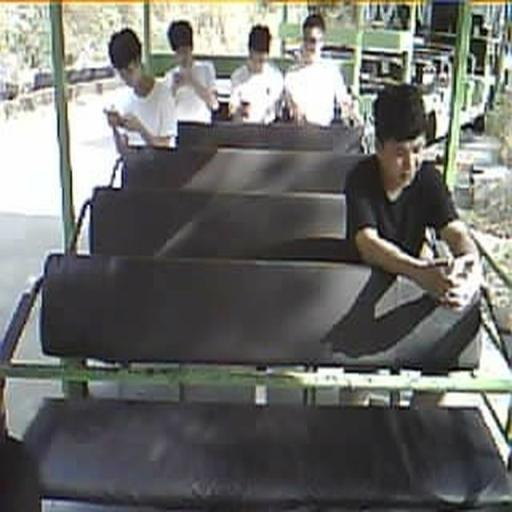persona: (343, 82, 480, 309), (103, 27, 178, 156), (284, 13, 356, 128), (227, 23, 299, 126), (161, 19, 220, 126), (228, 23, 284, 125)
